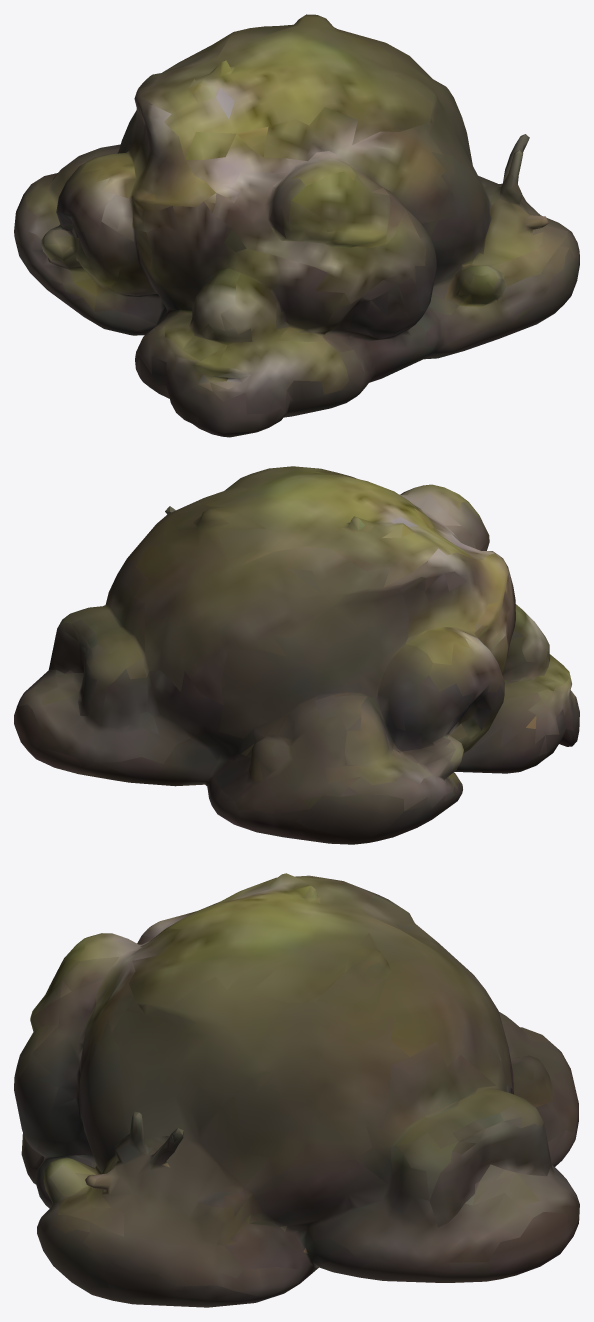
Rendered from m14_pedra_musgo_alta.glb.
The picture shows the model from 3 angles, top to bottom: view 1: azimuth 30°, elevation 25°; view 2: azimuth 150°, elevation 25°; view 3: azimuth 270°, elevation 25°; orthographic projection. The views are drawn at different scales.
Visible parts, largest first — view 1: m14_pedra_musgo_alta; view 2: m14_pedra_musgo_alta; view 3: m14_pedra_musgo_alta.
Boxes of the visible parts, bbox=[...] form: m14_pedra_musgo_alta: bbox=[14, 14, 579, 437]; m14_pedra_musgo_alta: bbox=[14, 466, 579, 844]; m14_pedra_musgo_alta: bbox=[14, 873, 579, 1307].
Size of the model in its own units: 1.09 by 0.6732 by 1.09.
Materials: 1 (1 with a texture image).
